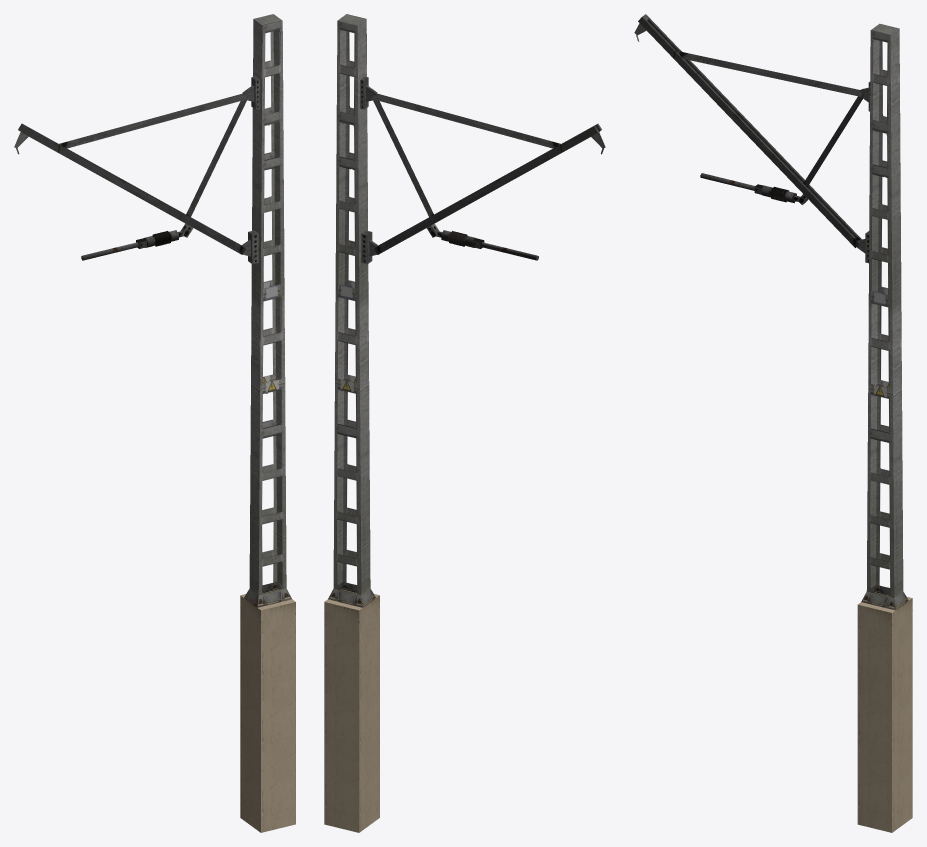
The model's file is opk1r2.gltf.
3 renders of one model, left to right at view 1: azimuth 30°, elevation 25°; view 2: azimuth 150°, elevation 25°; view 3: azimuth 330°, elevation 25°, orthographic.
Bounding box in the file's own units: 4.54 × 12.81 × 0.6.
Materials: 1 (1 with a texture image).
